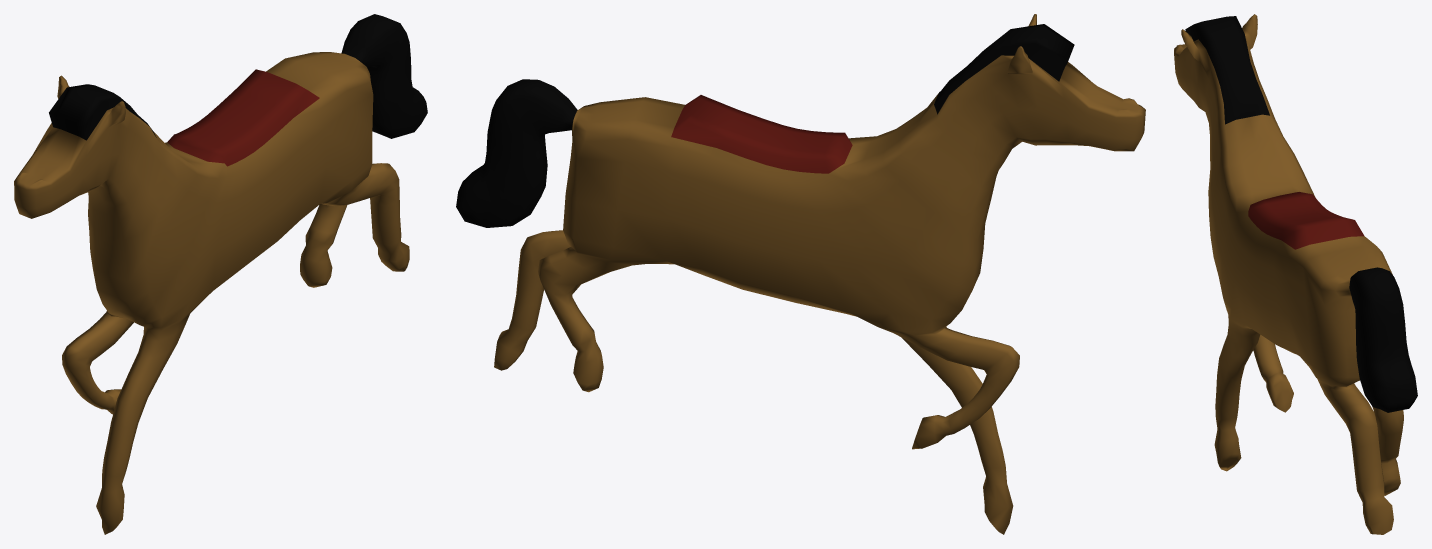
File: SM_B_Horse.fbx
3 renders of one model, left to right at view 1: azimuth 30°, elevation 25°; view 2: azimuth 150°, elevation 25°; view 3: azimuth 270°, elevation 25°, orthographic. The views are drawn at different scales.
Parts seen in each view (by area): view 1: SM_B_Horse; view 2: SM_B_Horse; view 3: SM_B_Horse.
Boxes of the visible parts, x1=… form: SM_B_Horse: x1=14, y1=14, x2=427, y2=534; SM_B_Horse: x1=456, y1=14, x2=1145, y2=534; SM_B_Horse: x1=1174, y1=14, x2=1417, y2=534.
Bounding box in the file's own units: 36.02 × 30.76 × 15.34.
